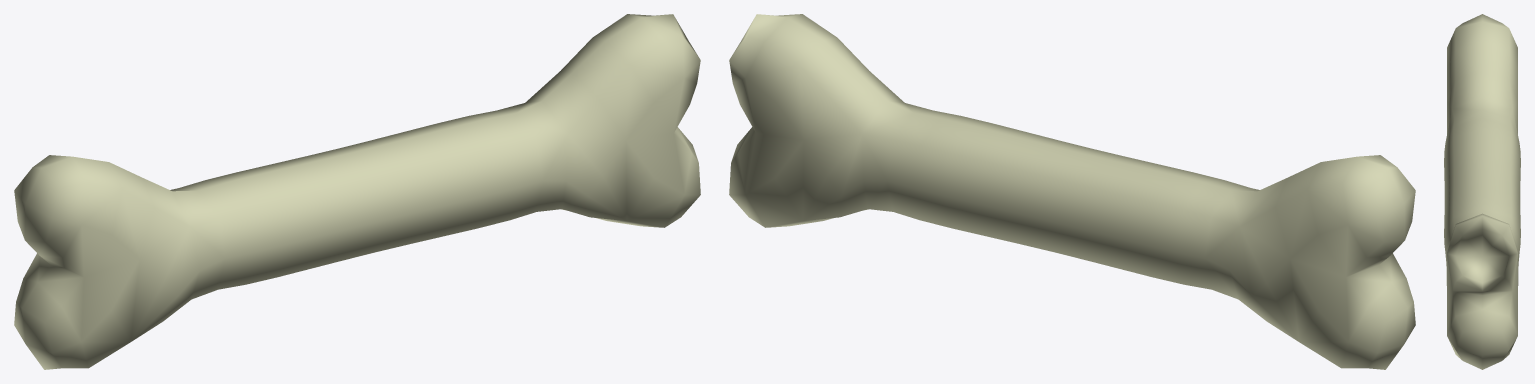
The model's file is Bone.fbx.
The picture shows the model from 3 angles, left to right: view 1: azimuth 30°, elevation 25°; view 2: azimuth 150°, elevation 25°; view 3: azimuth 270°, elevation 25°; orthographic projection. The views are drawn at different scales.
Parts seen in each view (by area): view 1: Bone; view 2: Bone; view 3: Bone.
Part boxes in pixels (bbox=[...]): Bone: bbox=[14, 14, 700, 369]; Bone: bbox=[729, 14, 1415, 369]; Bone: bbox=[1444, 14, 1520, 369].
Size of the model in its own units: 313 by 92.96 by 44.44.
